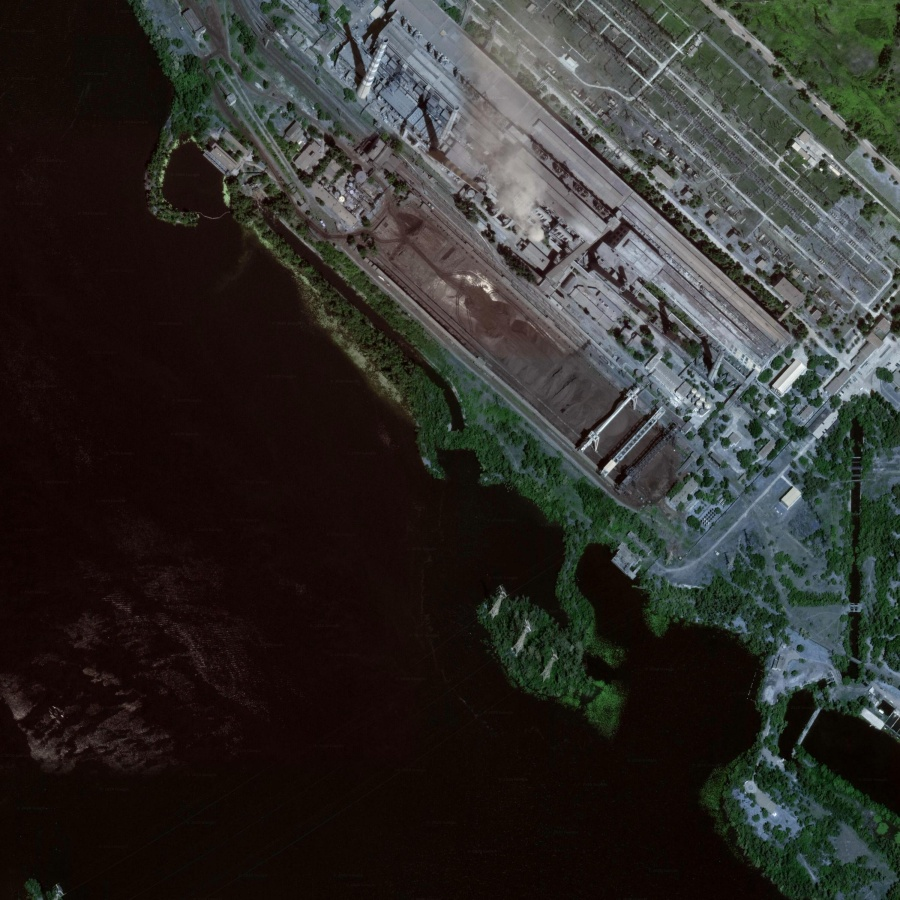PowerPlant: (313, 8, 746, 507)
